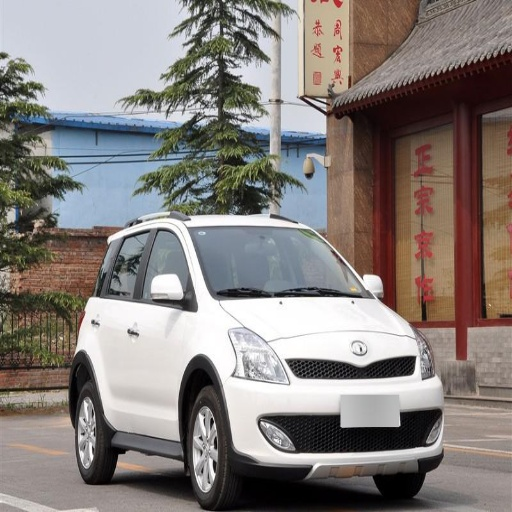front_bumper: (224, 331, 442, 478)
front_right_door: (130, 224, 192, 438)
front_right_light: (229, 327, 288, 383)
hood: (218, 298, 415, 339)
